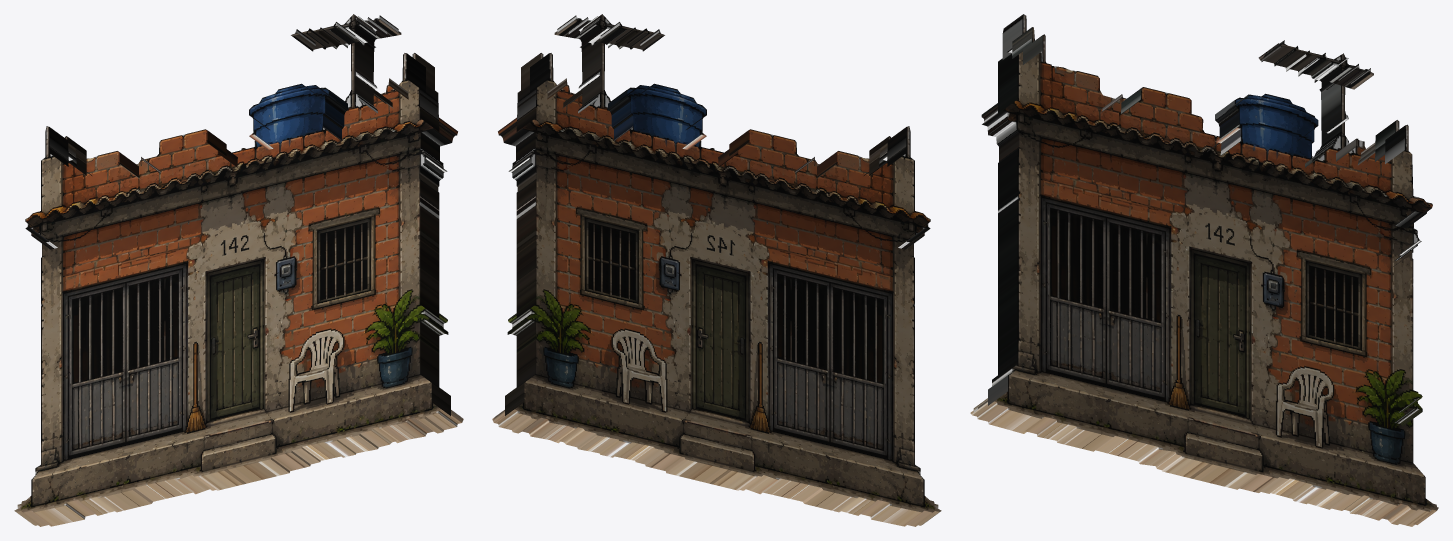
Rendered from house_01_front.glb.
3 renders of one model, left to right at view 1: azimuth 30°, elevation 25°; view 2: azimuth 150°, elevation 25°; view 3: azimuth 330°, elevation 25°, orthographic. The views are drawn at different scales.
Visible parts, largest first — view 1: world; view 2: world; view 3: world.
Boxes of the visible parts, bbox=[...] form: world: bbox=[14, 14, 463, 526]; world: bbox=[492, 14, 941, 526]; world: bbox=[970, 14, 1438, 526].
Bounding box in the file's own units: 7.74 × 7.3 × 0.5904.
1 material, 1 textured.
